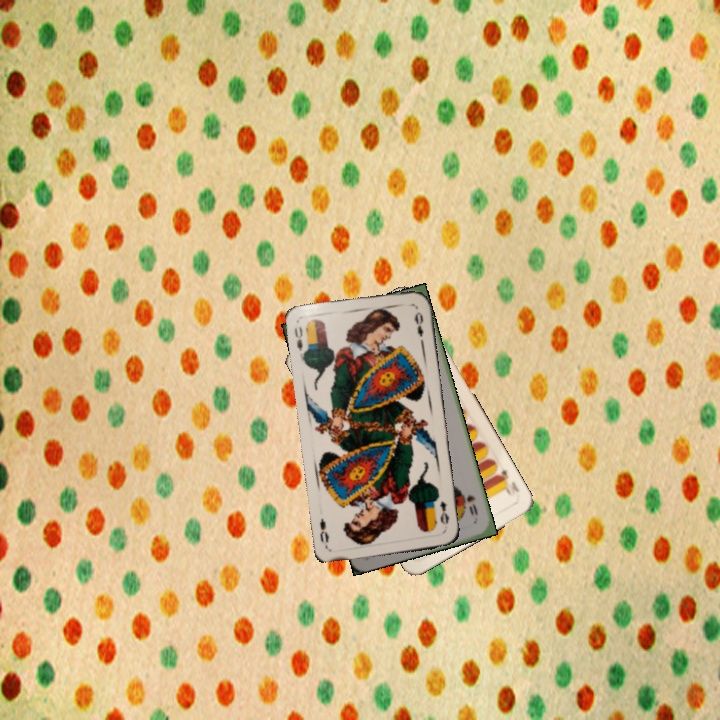E10: (493, 465, 522, 499)
EO: (290, 322, 311, 360), (436, 497, 452, 532)
SO: (462, 491, 480, 518)
